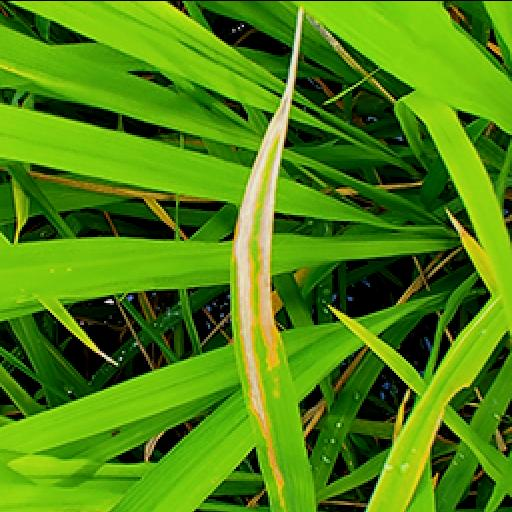Sheath Blight: (232, 4, 304, 496)
